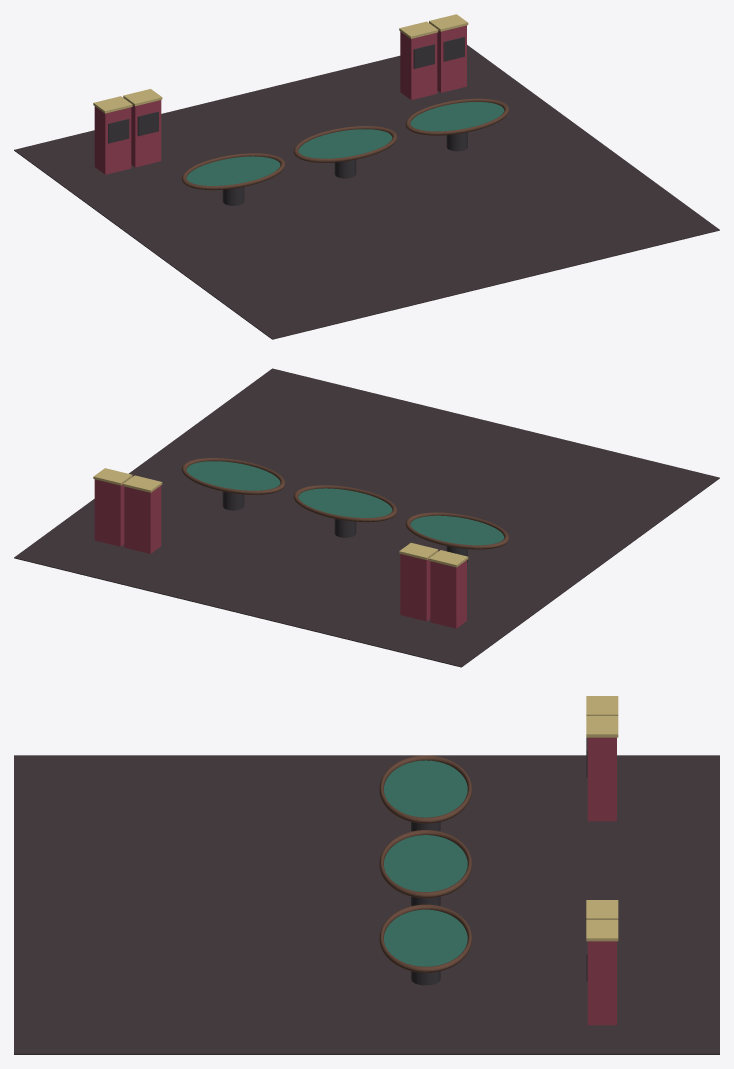
File: lobby.glb
The picture shows the model from 3 angles, top to bottom: view 1: azimuth 30°, elevation 25°; view 2: azimuth 150°, elevation 25°; view 3: azimuth 270°, elevation 25°; orthographic projection. The views are drawn at different scales.
Visible parts, largest first — view 1: lobby_0, lobby_1, lobby_4, lobby_7, lobby_10, lobby_16, lobby_13, lobby_19, lobby_5, lobby_8, lobby_2; view 2: lobby_0, lobby_16, lobby_10, lobby_4, lobby_7, lobby_1, lobby_19, lobby_13, lobby_8, lobby_2, lobby_5; view 3: lobby_0, lobby_7, lobby_1, lobby_4, lobby_19, lobby_13, lobby_8, lobby_2, lobby_5, lobby_15, lobby_21, lobby_12 (+1 smaller).
Boxes of the visible parts, box(x1,y1,x2,y2) form: lobby_0: box(14, 45, 719, 339); lobby_1: box(186, 156, 280, 185); lobby_4: box(298, 129, 392, 158); lobby_7: box(410, 102, 504, 131); lobby_10: box(94, 106, 131, 174); lobby_16: box(400, 31, 437, 99); lobby_13: box(131, 100, 161, 167); lobby_19: box(437, 25, 466, 92); lobby_5: box(293, 126, 397, 162); lobby_8: box(405, 98, 508, 135); lobby_2: box(181, 153, 285, 190); lobby_0: box(14, 368, 719, 667); lobby_16: box(124, 485, 161, 553); lobby_10: box(430, 560, 466, 628); lobby_4: box(298, 488, 392, 517); lobby_7: box(186, 461, 280, 490); lobby_1: box(410, 515, 504, 545); lobby_19: box(94, 479, 124, 546); lobby_13: box(400, 554, 430, 621); lobby_8: box(181, 458, 285, 494); lobby_2: box(405, 512, 508, 549); lobby_5: box(293, 485, 397, 522); lobby_0: box(14, 755, 719, 1054); lobby_7: box(384, 909, 467, 966); lobby_1: box(384, 760, 467, 817); lobby_4: box(384, 835, 467, 891); lobby_19: box(587, 941, 616, 1025); lobby_13: box(587, 737, 616, 821); lobby_8: box(379, 904, 471, 972); lobby_2: box(379, 755, 471, 823); lobby_5: box(379, 830, 471, 898); lobby_15: box(586, 716, 618, 737); lobby_21: box(586, 920, 618, 941); lobby_12: box(586, 696, 618, 715).
Size of the model in its own units: 12 by 1.66 by 12.
